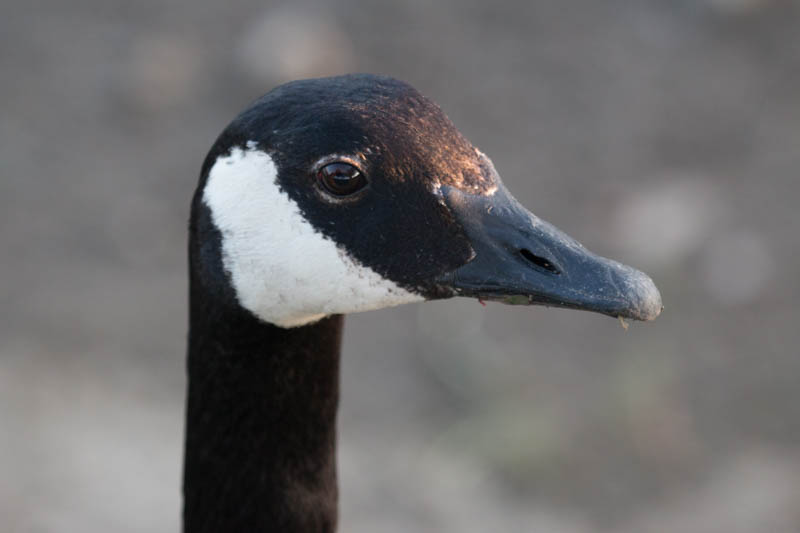goose-head: (188, 74, 664, 330)
